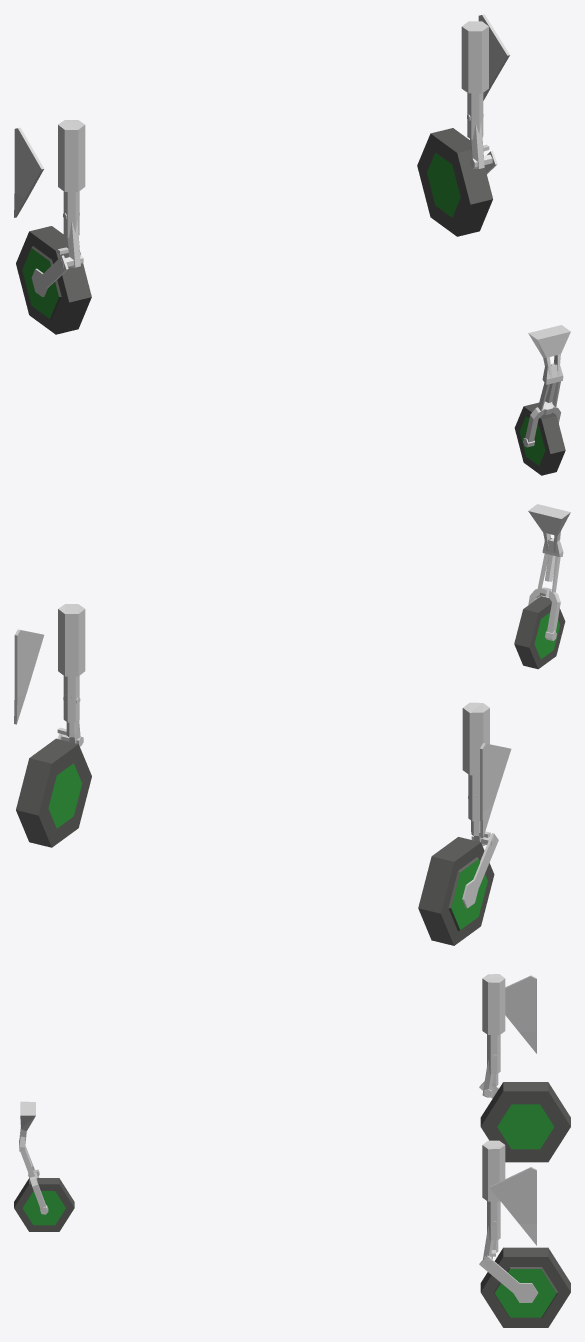
File: cold_war_planes_su_17m4_vvs_gear.gltf
The picture shows the model from 3 angles, top to bottom: view 1: azimuth 30°, elevation 25°; view 2: azimuth 150°, elevation 25°; view 3: azimuth 270°, elevation 25°; orthographic projection. The views are drawn at different scales.
Parts seen in each view (by area): view 1: 0_2_#1e1e1d, 0_0_#c6c7c6, 0_1_#08650c, 0_3_#b2b2b2; view 2: 0_2_#1e1e1d, 0_0_#c6c7c6, 0_3_#b2b2b2, 0_1_#08650c; view 3: 0_2_#1e1e1d, 0_0_#c6c7c6, 0_1_#08650c, 0_3_#b2b2b2.
Boxes of the visible parts, x1,y1,x2,y2 form: 0_2_#1e1e1d: [16, 128, 565, 475]; 0_0_#c6c7c6: [31, 21, 570, 447]; 0_1_#08650c: [22, 152, 545, 465]; 0_3_#b2b2b2: [14, 14, 509, 217]; 0_2_#1e1e1d: [16, 596, 565, 945]; 0_0_#c6c7c6: [57, 504, 570, 908]; 0_3_#b2b2b2: [14, 629, 511, 838]; 0_1_#08650c: [48, 612, 560, 929]; 0_2_#1e1e1d: [14, 1082, 570, 1327]; 0_0_#c6c7c6: [19, 974, 537, 1302]; 0_1_#08650c: [22, 1104, 556, 1317]; 0_3_#b2b2b2: [489, 975, 536, 1245].
Size of the model in its own units: 4.31 by 1.86 by 5.25.
